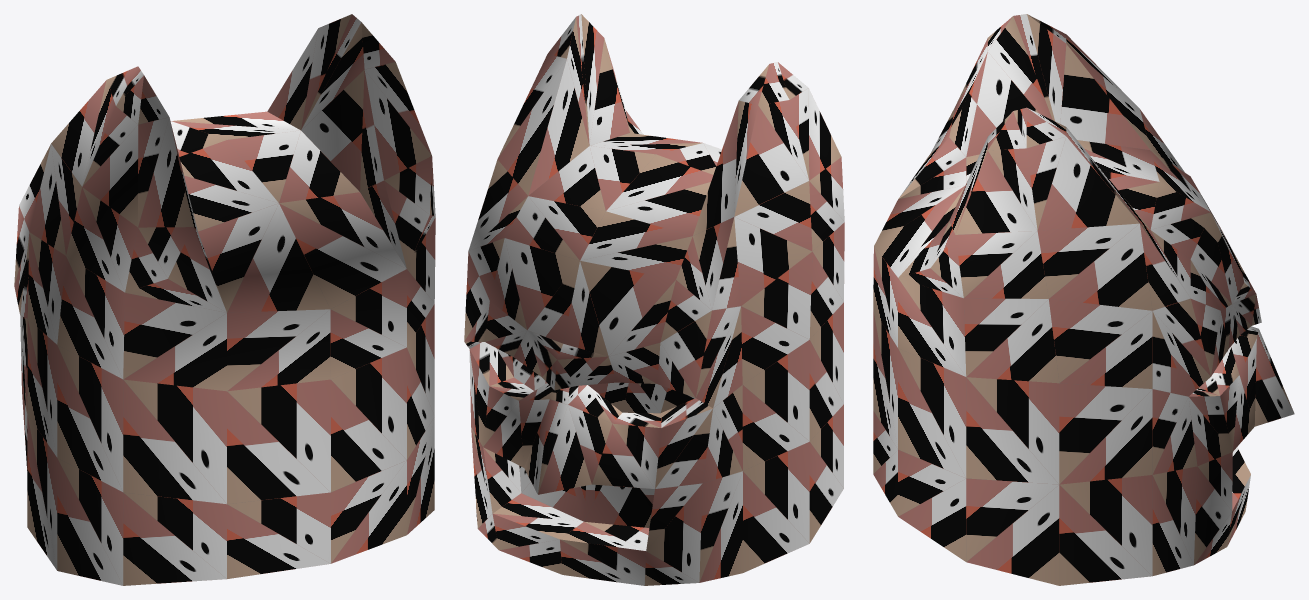
The model's file is PS2.ico.obj.
3 renders of one model, left to right at view 1: azimuth 30°, elevation 25°; view 2: azimuth 150°, elevation 25°; view 3: azimuth 270°, elevation 25°, orthographic. The views are drawn at different scales.
Bounding box in the file's own units: 1.27 × 1.79 × 1.52.
